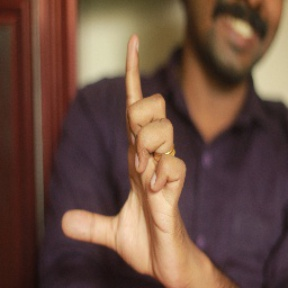L: (59, 33, 188, 277)
